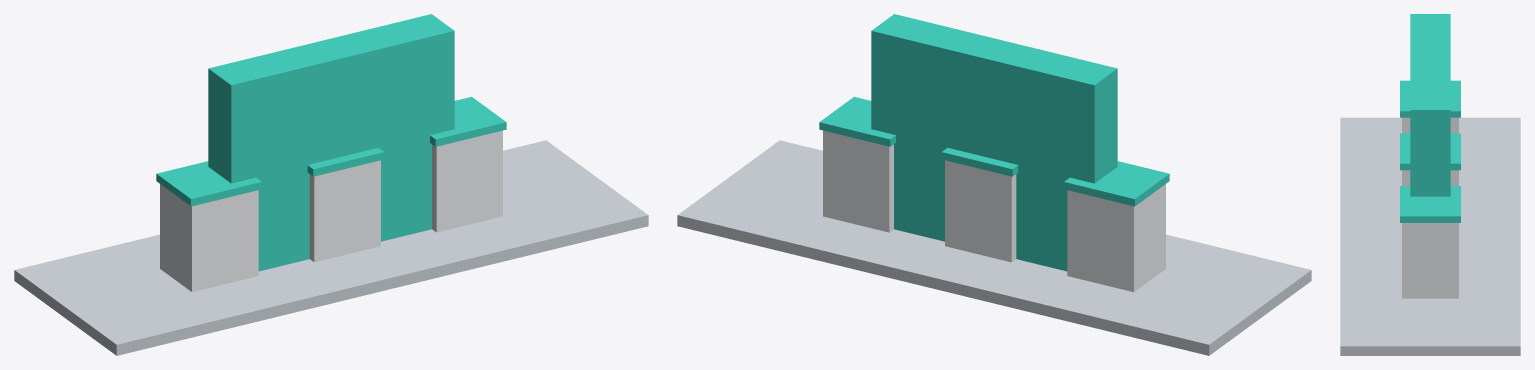
The picture shows the model from 3 angles, left to right: view 1: azimuth 30°, elevation 25°; view 2: azimuth 150°, elevation 25°; view 3: azimuth 270°, elevation 25°; orthographic projection. The views are drawn at different scales.
Visible parts, largest first — view 1: Exhibition Booth Concept; view 2: Exhibition Booth Concept; view 3: Exhibition Booth Concept.
Part boxes in pixels (x1,y1,x2,y2): Exhibition Booth Concept: [14, 14, 648, 355]; Exhibition Booth Concept: [677, 14, 1311, 355]; Exhibition Booth Concept: [1340, 14, 1520, 355].
Size of the model in its own units: 6 by 2.2 by 2.
